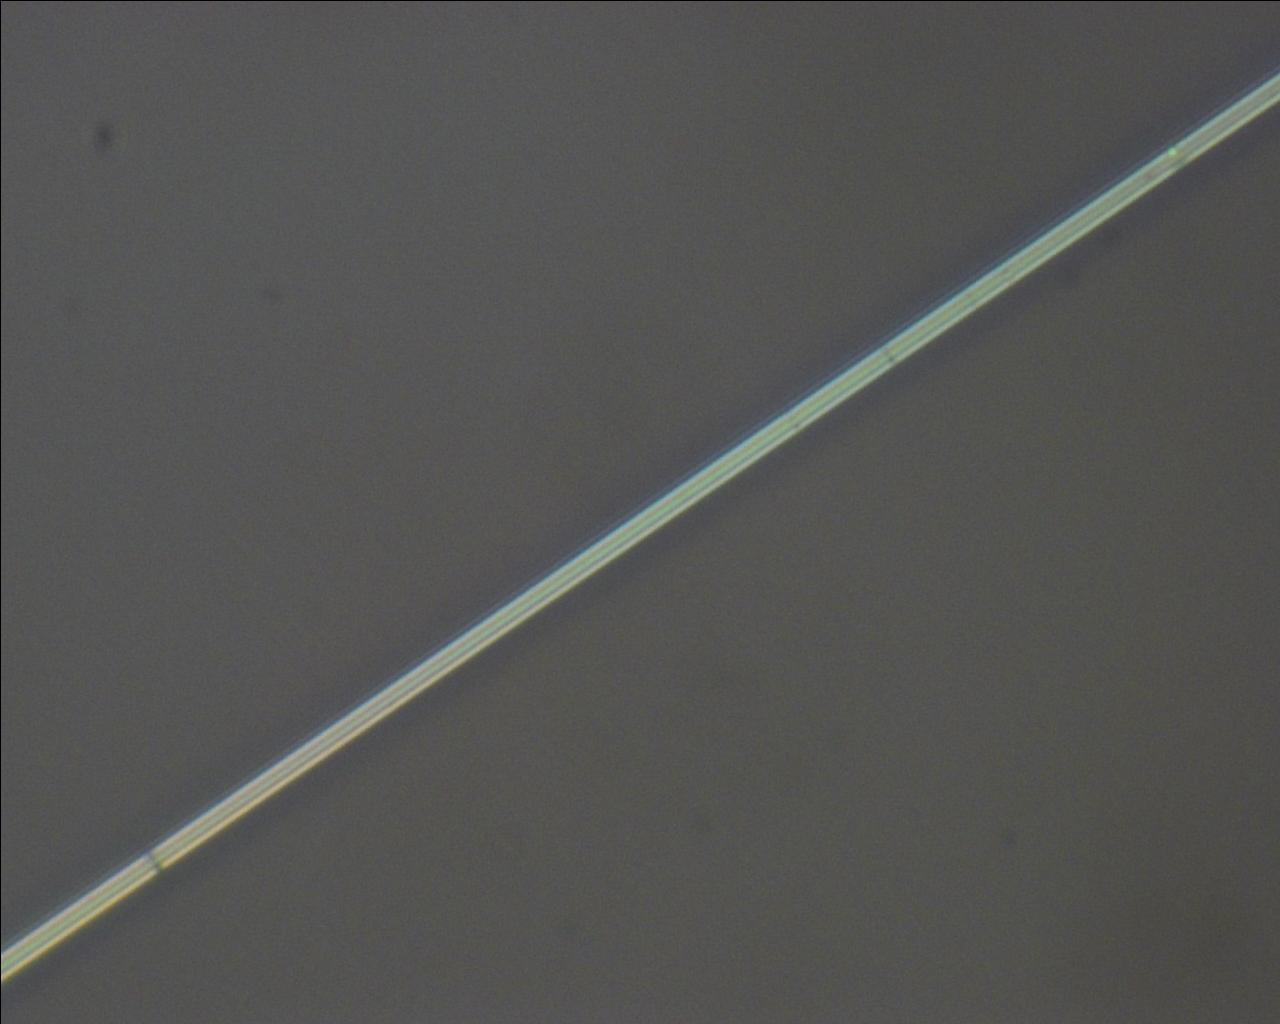fiber: (0, 65, 1280, 982)
